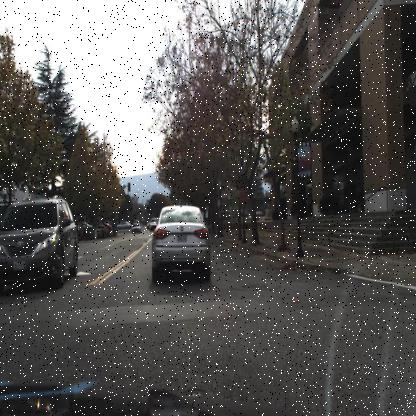car: (0, 190, 81, 294), (152, 204, 210, 281), (130, 219, 142, 235), (91, 225, 102, 242), (149, 220, 157, 232)
